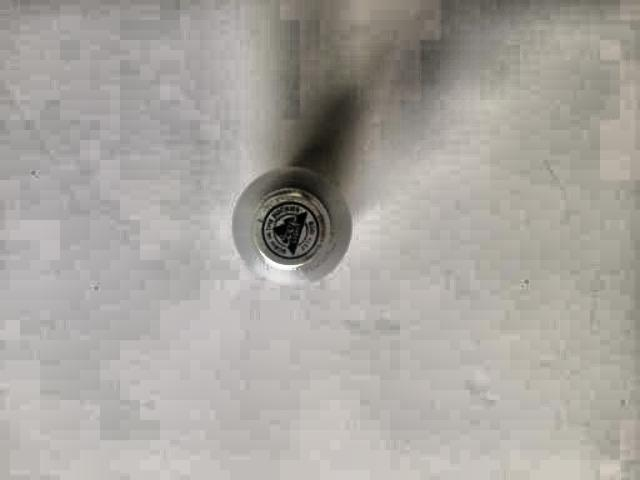Bottles: (198, 157, 400, 320)
